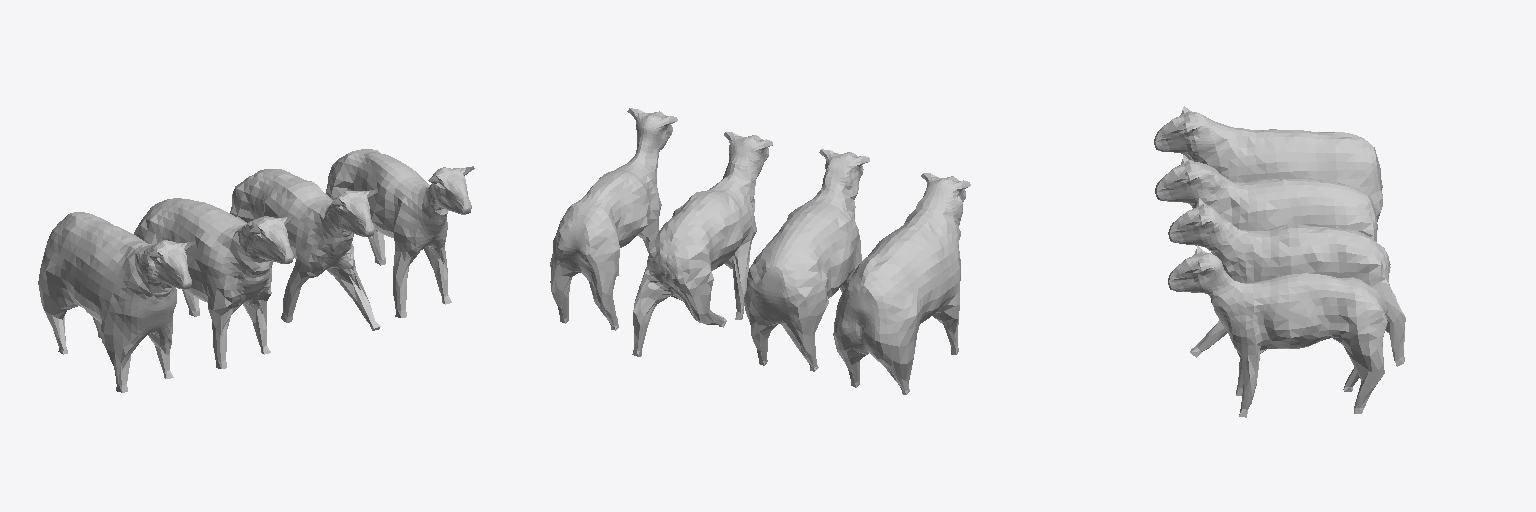
Rendered from sheepies.obj.
3 views of the same model, side by side, from view 1: azimuth 30°, elevation 25°; view 2: azimuth 150°, elevation 25°; view 3: azimuth 270°, elevation 25° (orthographic).
Parts seen in each view (by area): view 1: sheep_4_Sphere.003, sheep_3_Sphere.001, sheep_1_Sphere.002, Sheep_2_Sphere; view 2: sheep_4_Sphere.003, sheep_3_Sphere.001, Sheep_2_Sphere, sheep_1_Sphere.002; view 3: sheep_1_Sphere.002, Sheep_2_Sphere, sheep_4_Sphere.003, sheep_3_Sphere.001.
Boxes of the visible parts, x1,y1,x2,y2 form: sheep_4_Sphere.003: [38, 212, 195, 392]; sheep_3_Sphere.001: [134, 198, 294, 368]; sheep_1_Sphere.002: [326, 149, 474, 317]; Sheep_2_Sphere: [230, 169, 380, 330]; sheep_4_Sphere.003: [833, 173, 970, 394]; sheep_3_Sphere.001: [744, 149, 869, 371]; Sheep_2_Sphere: [632, 132, 772, 356]; sheep_1_Sphere.002: [550, 108, 677, 330]; sheep_1_Sphere.002: [1168, 245, 1387, 417]; Sheep_2_Sphere: [1168, 198, 1405, 366]; sheep_4_Sphere.003: [1154, 106, 1382, 221]; sheep_3_Sphere.001: [1155, 155, 1377, 241].
Bounding box in the file's own units: 4.44 × 1.84 × 2.69.